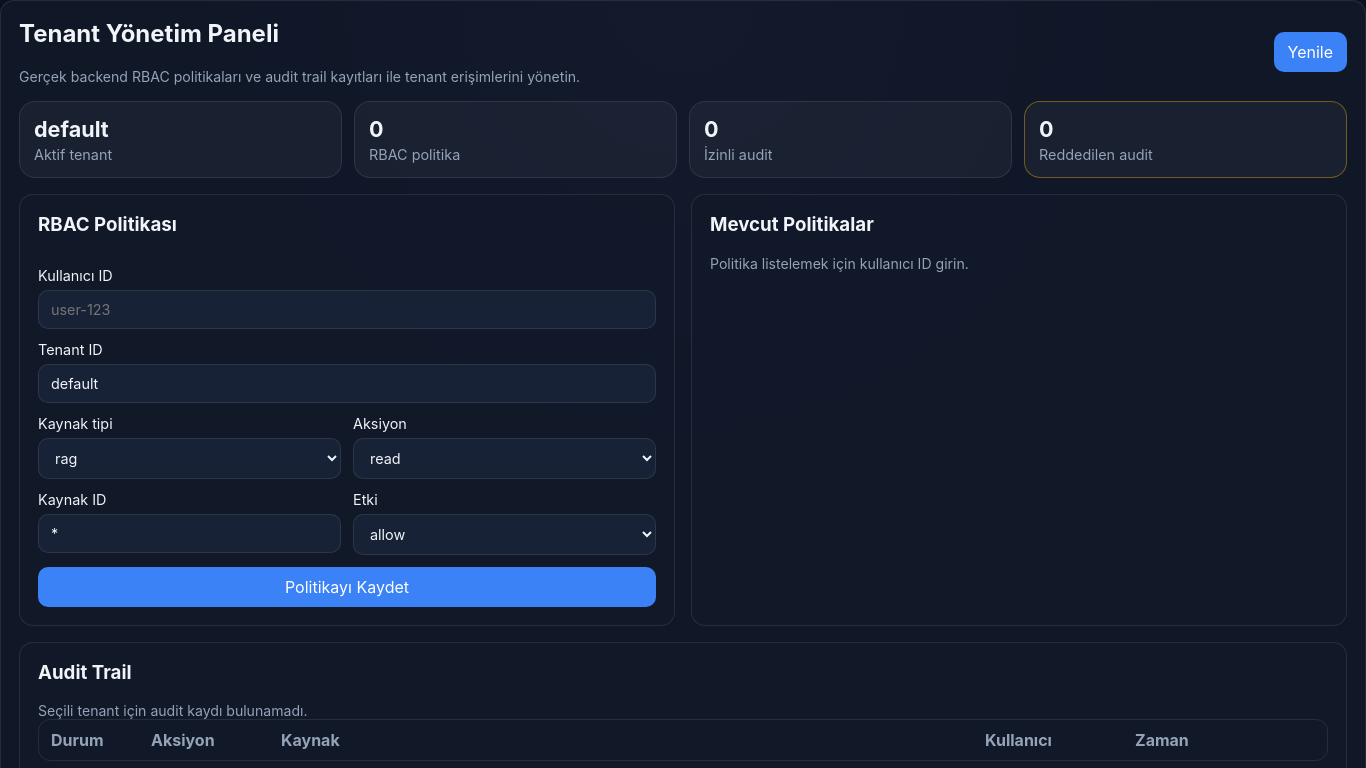
Scenario: TenantAdminPanel › upserts a real RBAC policy through the admin policy API
The width and height of the screenshot is (1366, 768).
Type "acme" into the field labelled "Tenant ID" at [347, 383], box [38, 364, 656, 403]
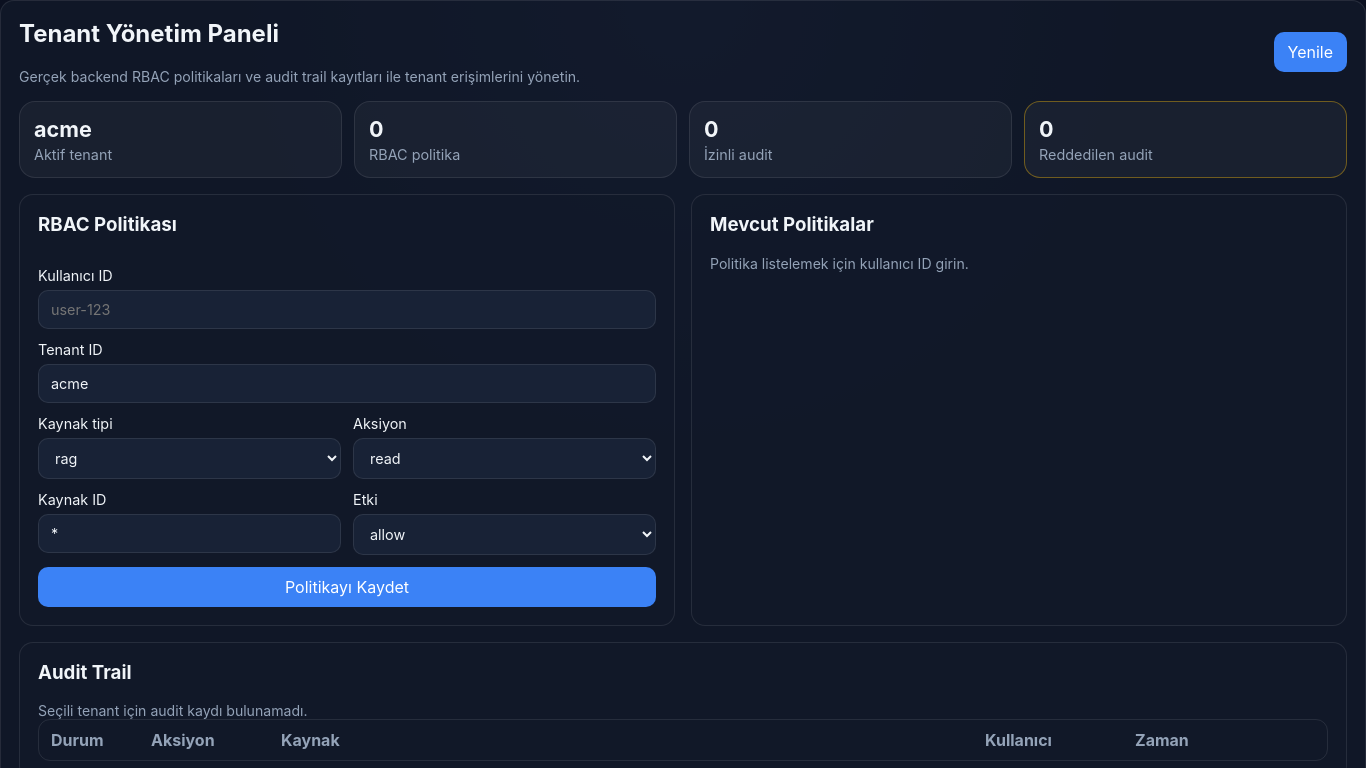
Type "user-1" into the field labelled "Kullanıcı ID" at [347, 309], box [38, 290, 656, 329]
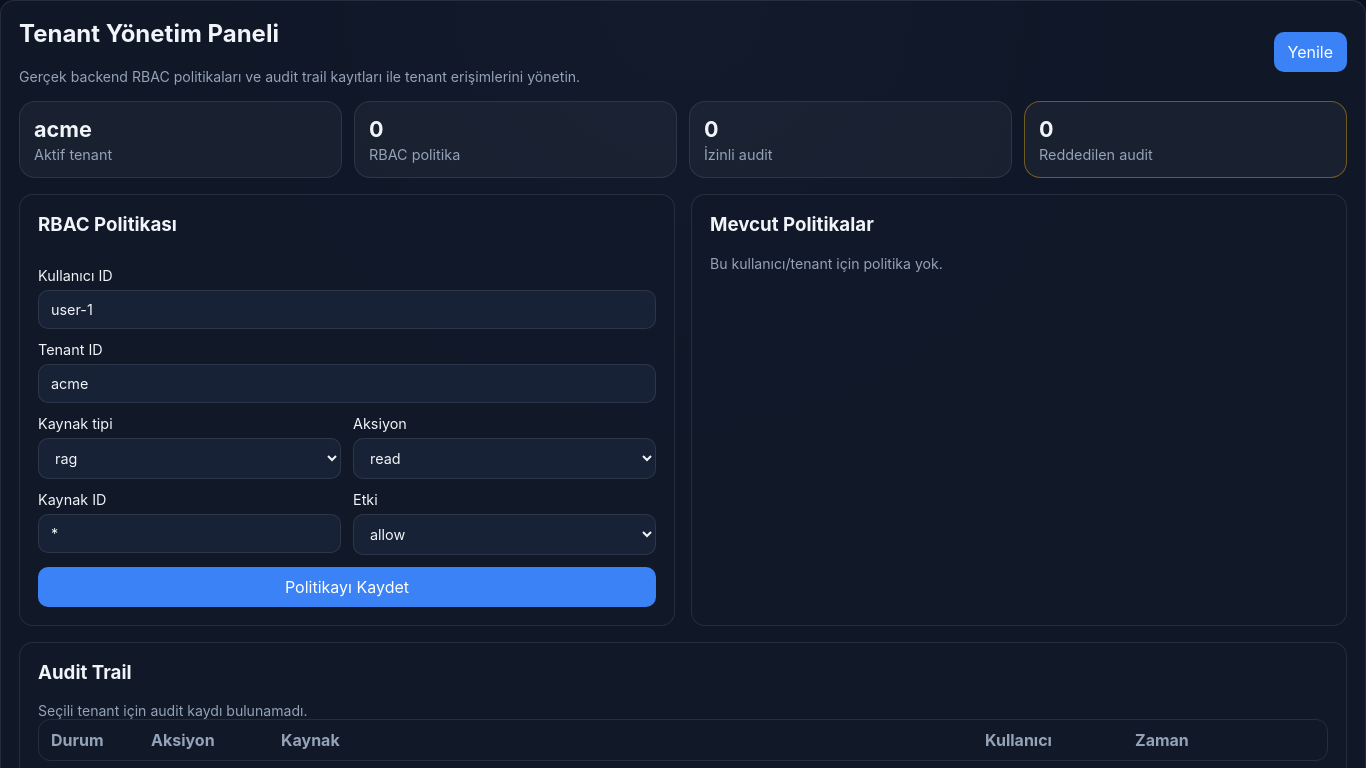
Click the button "Politikayı Kaydet" at [347, 587], box [38, 567, 656, 607]
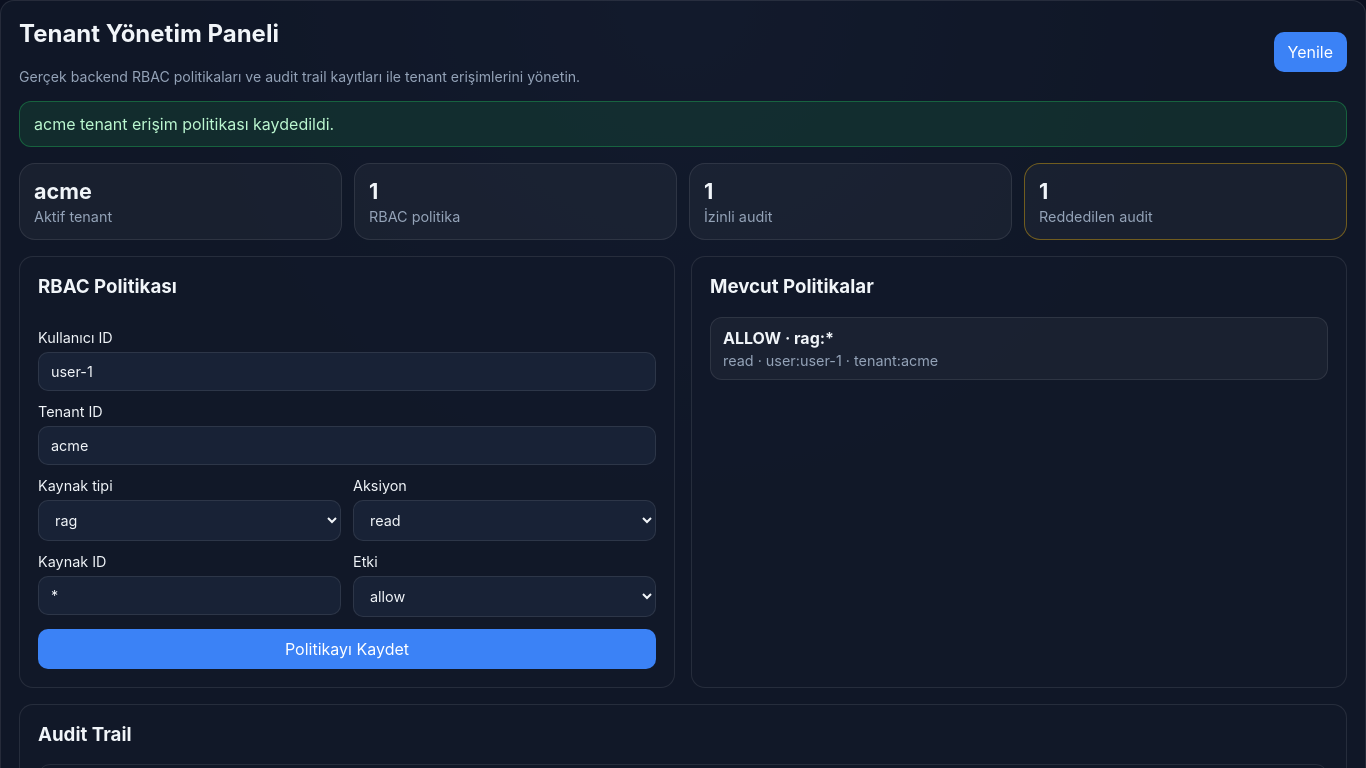
expect the text "acme tenant erişim politikası kaydedildi." is shown: met, box [19, 101, 1347, 147]
